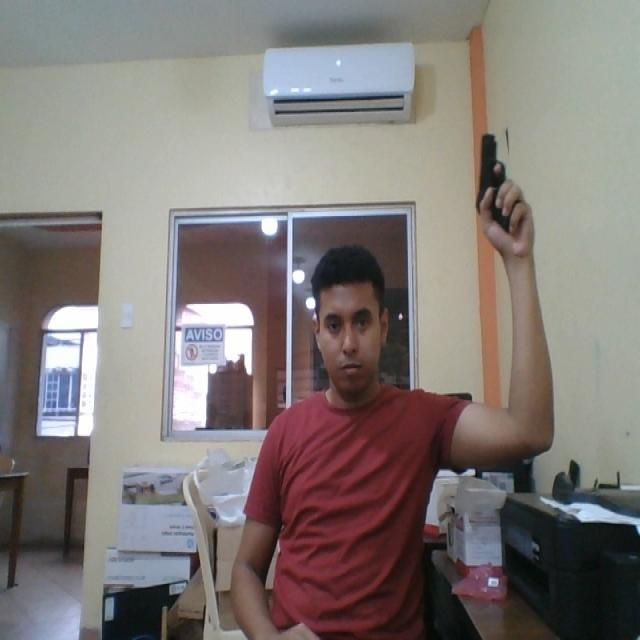weapon: (476, 131, 514, 234)
